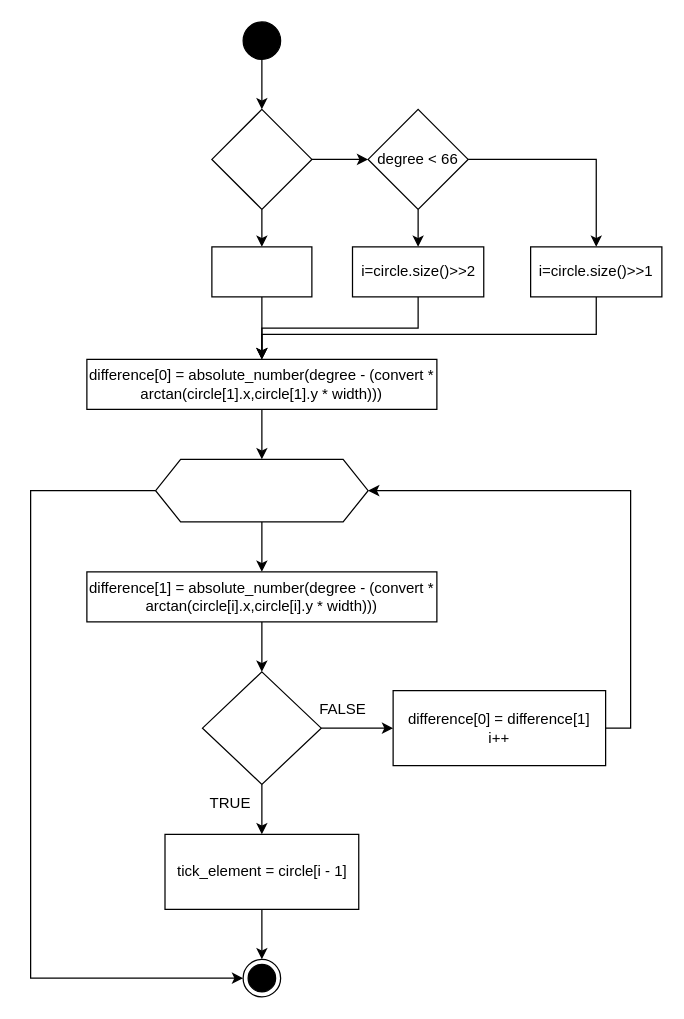
Image size: 684x1019. Some labels were removed from this diagram. The box of each missing label's shape, as (x1, y1, x2, y2) in pixels:
degree < 42: (211, 108, 312, 209)
difference[0] < difference[1]: (201, 671, 321, 784)
i < circle.size(): (154, 458, 368, 522)
i = 2: (211, 246, 312, 297)
